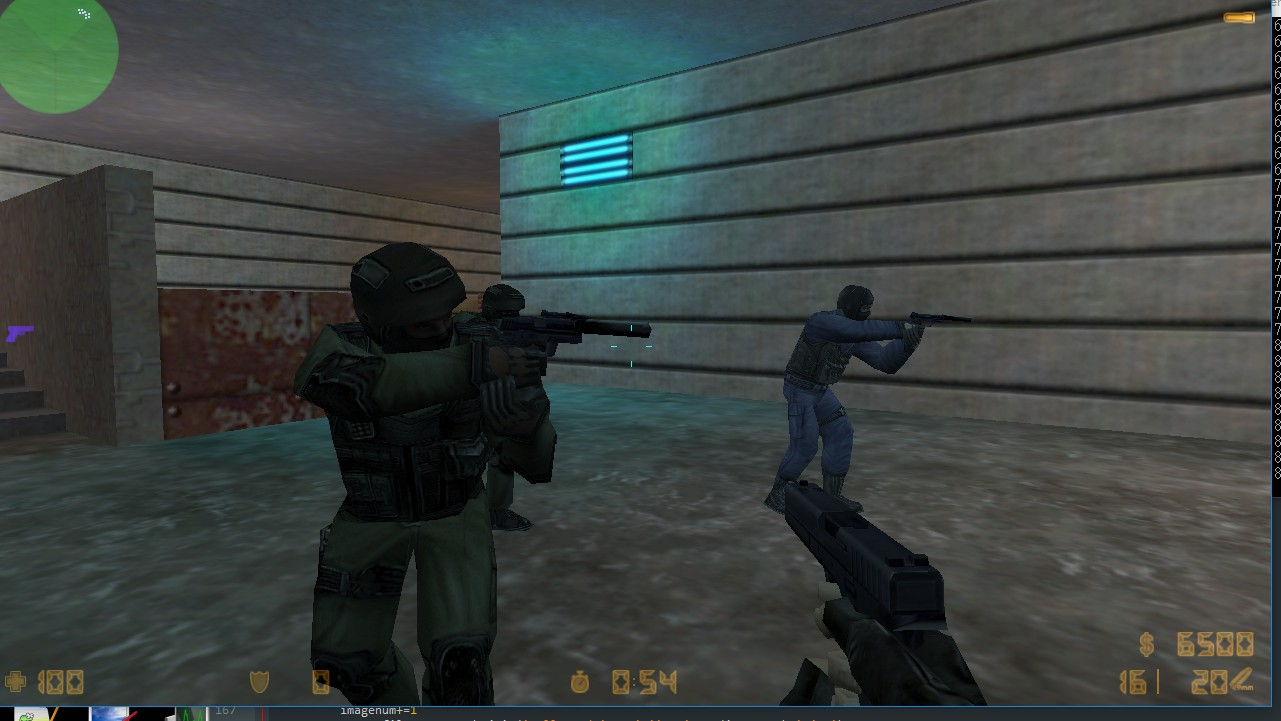person: (288, 229, 574, 704), (764, 276, 900, 523)
